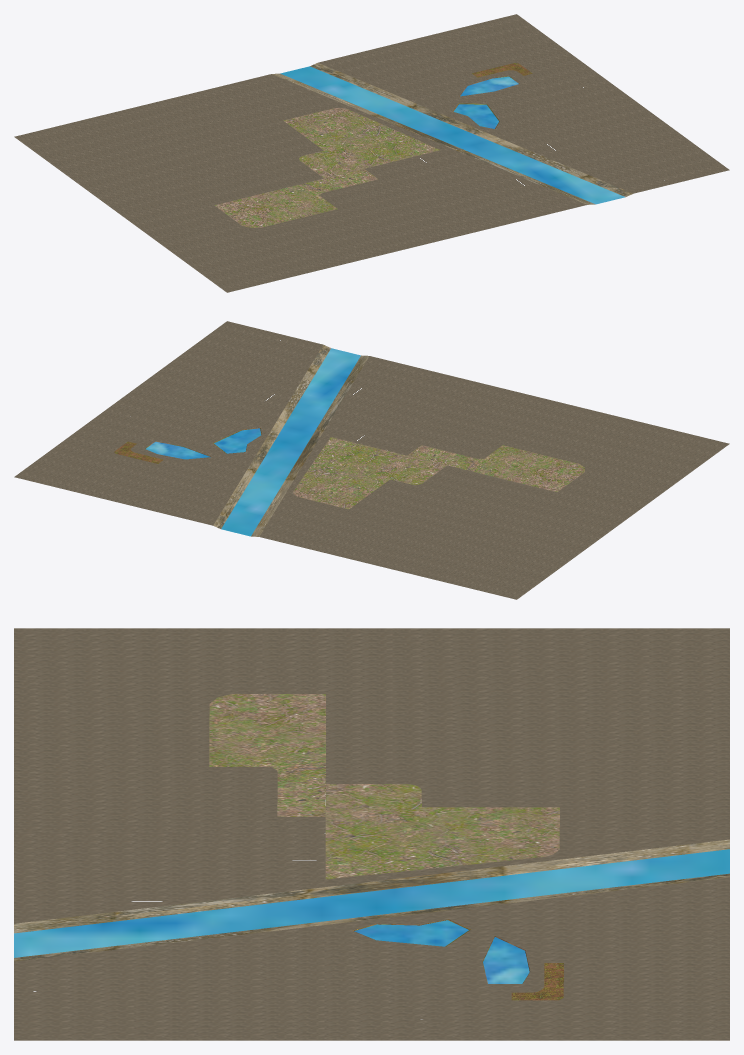
The model's file is ground3.fbx.
3 views of the same model, one above another, from view 1: azimuth 30°, elevation 25°; view 2: azimuth 150°, elevation 25°; view 3: azimuth 270°, elevation 25° (orthographic). The views are drawn at different scales.
Visible parts, largest first — view 1: 平面; view 2: 平面; view 3: 平面.
Boxes of the visible parts, x1,y1,x2,y2 form: 平面: [14, 14, 729, 292]; 平面: [14, 321, 729, 599]; 平面: [14, 628, 729, 1040].
Size of the model in its own units: 517047 by 1604 by 379583.
Materials: 1 (1 with a texture image).
